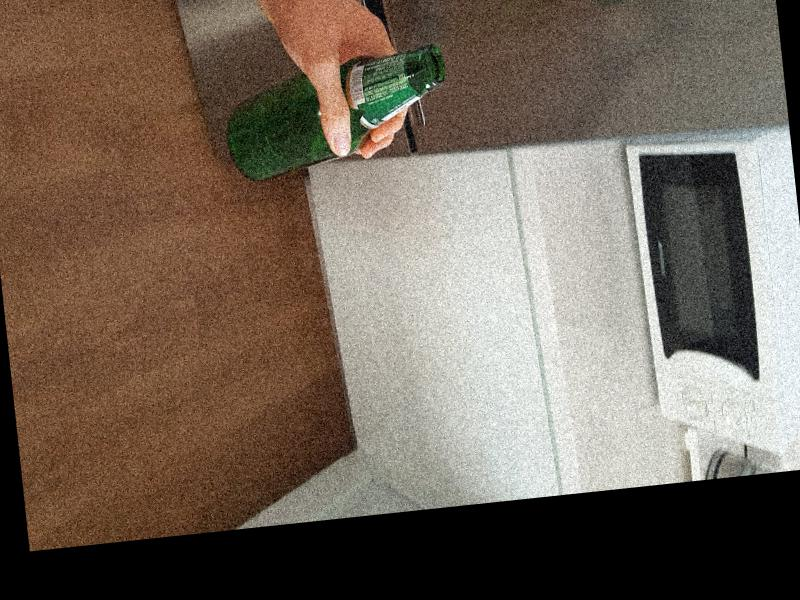Beer: (218, 43, 454, 182)
